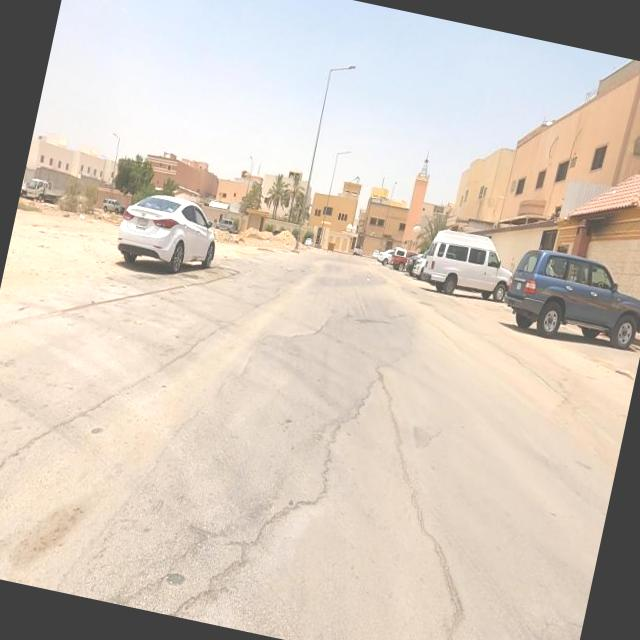debris: (62, 200, 100, 232)
